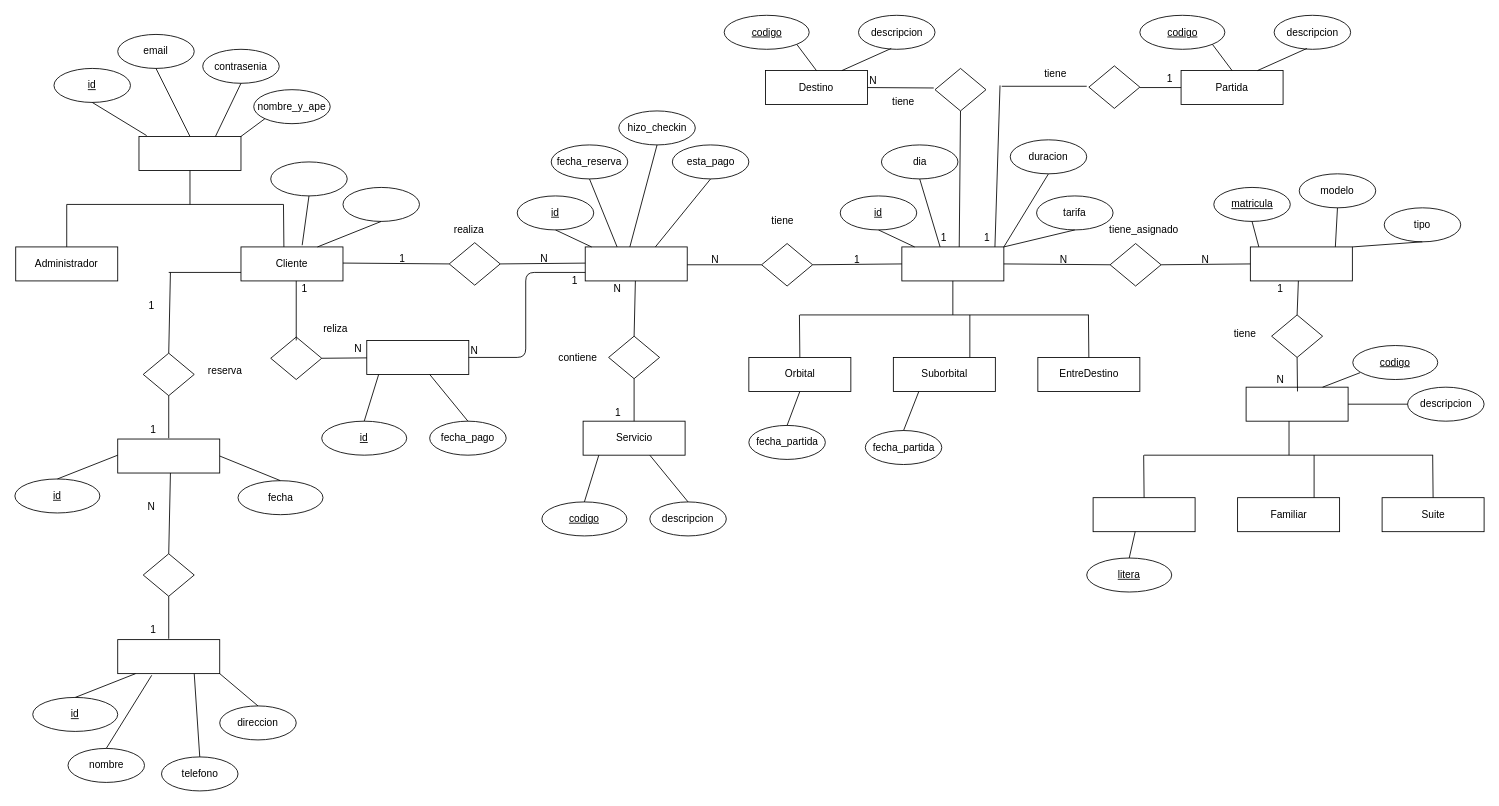
Some shapes in this 1499 by 806 pixel diagram are drawn without their labels. The box of each missing label's shape, as (x1, y1, x2, y2) in pixels:
Cabina: (1245, 386, 1348, 421)
CentroMedico: (117, 639, 220, 674)
Equipo: (1250, 246, 1352, 281)
esta_confirmado: (270, 161, 347, 196)
General: (1092, 497, 1195, 532)
nivel_vuelo: (342, 187, 419, 221)
Pago: (366, 340, 469, 374)
ReservaVuelo: (584, 246, 687, 281)
Turno: (117, 438, 220, 473)
Usuario: (138, 136, 241, 170)
Viaje: (901, 246, 1004, 281)
